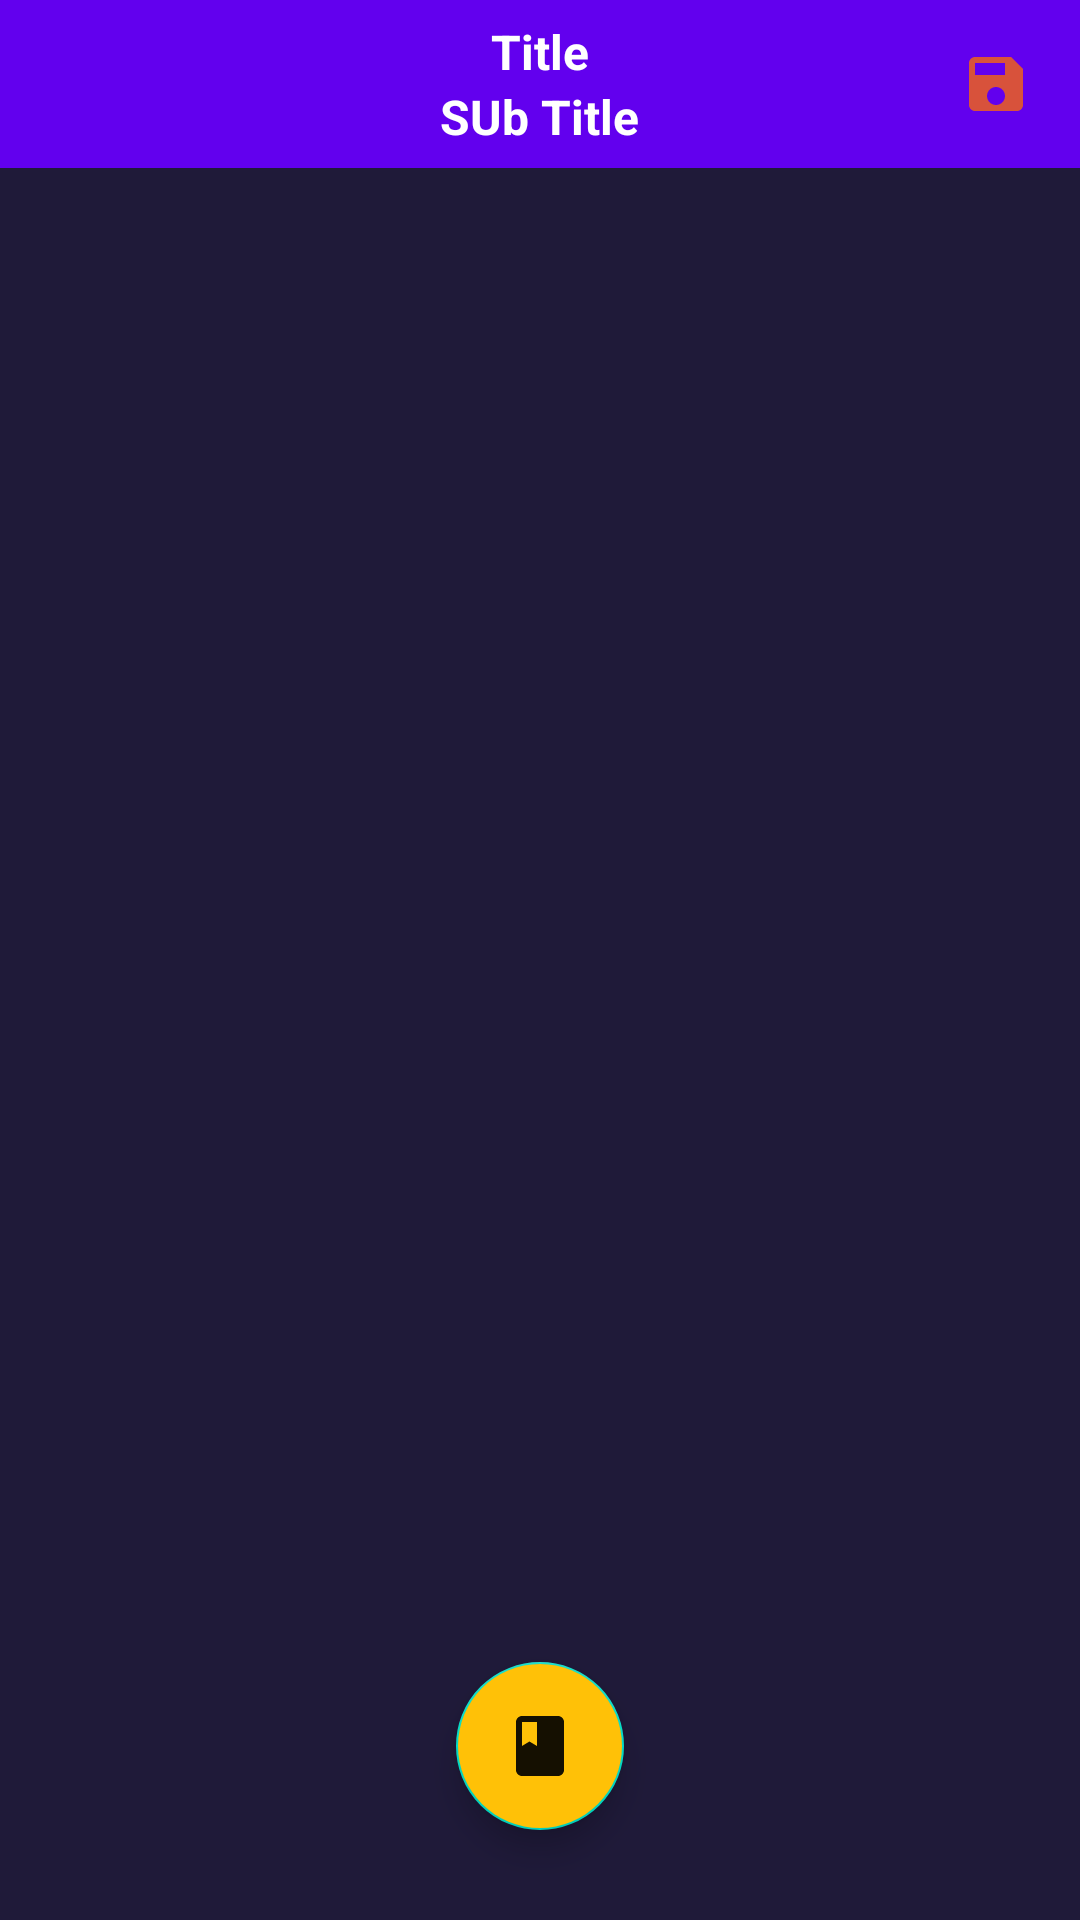

Named icons in this screenshot (1080*1920) and their centers, (x=x, y=y):
class: (x=540, y=1746)
save: (x=996, y=84)
